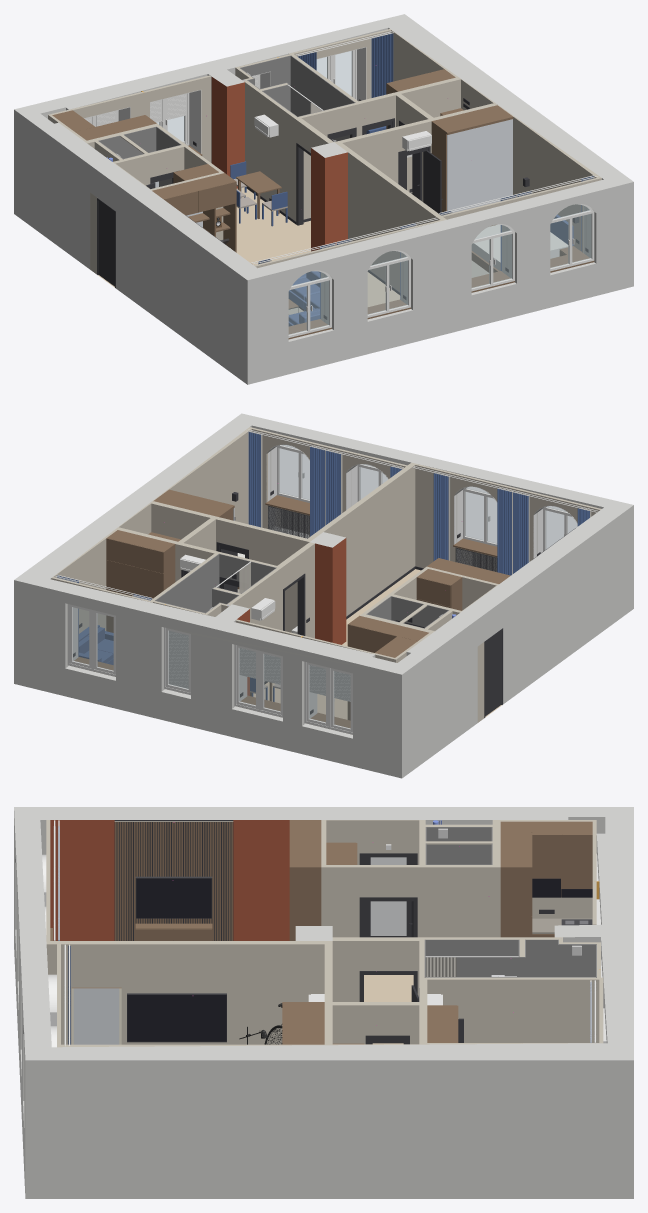
Rendered from apartment.glb.
The picture shows the model from 3 angles, top to bottom: view 1: azimuth 30°, elevation 25°; view 2: azimuth 150°, elevation 25°; view 3: azimuth 270°, elevation 25°; orthographic projection. The views are drawn at different scales.
Parts seen in each view (by area): view 1: IfcWall/Кирпичные стены, IfcFurniture/Шкаф-купе с зеркальными дверями (спальня), IfcWall/Перегородка ГКЛ.006, IfcWall/Перегородка ГКЛ.014, IfcSlab/Пол (верх стяжки), IfcCovering/Штукатурка восточной стены спальни (за кроватью,, IfcCovering/Плитка стен санузла 2, IfcFurniture/Бар сухой 2120×600 (гостиная, на месте шкафа у , IfcWall/Перегородка ГКЛ.009, IfcWall/Перегородка ГКЛ.010, IfcWindow/Окно спальни 2 (арочное), IfcWall/Перегородка ГКЛ.011 (+31 smaller); view 2: IfcWall/Кирпичные стены, IfcWall/Перегородка ГКЛ.006, IfcShadingDevice/Шторы гостиной: блэкаут и тюль на потолочны, IfcWall/Перегородка ГКЛ.011, IfcWall/Перегородка ГКЛ.017, IfcShadingDevice/Шторы спальни: блэкаут и тюль на потолочных, IfcFurniture/Шкаф распашной (комната 2), IfcCovering/Штукатурка восточной стены спальни (за кроватью,, IfcWall/Перегородка ГКЛ.014, IfcCovering/Плитка стен санузла 2, IfcWindow/Окно кухни 1, IfcWindow/Окно комнаты 2 (+34 smaller); view 3: IfcWall/Кирпичные стены, IfcWall/Перегородка ГКЛ.006, IfcCovering/Панель реек тёмного дерева на чёрном войлоке с п, IfcWall/Перегородка ГКЛ.015, IfcWall/Перегородка ГКЛ.002, IfcCovering/Плитка стен санузла 2, IfcElectricAppliance/Телевизор ≈85″ (спальня), IfcWall/Перегородка ГКЛ.014, IfcFurniture/Бар сухой 2120×600 (гостиная, на месте шкафа у , IfcWall/Перегородка ГКЛ.016, IfcElectricAppliance/Телевизор ≈65″ (гостиная, напротив дива, IfcFurniture/Зеркало с подсветкой (макияжная зона, спальня) (+23 smaller).
Part boxes in pixels (bbox=[...]): IfcWall/Кирпичные стены: bbox=[14, 14, 633, 384]; IfcFurniture/Шкаф-купе с зеркальными дверями (спальня): bbox=[431, 105, 513, 226]; IfcWall/Перегородка ГКЛ.006: bbox=[337, 143, 446, 291]; IfcWall/Перегородка ГКЛ.014: bbox=[242, 79, 333, 221]; IfcSlab/Пол (верх стяжки): bbox=[98, 187, 400, 306]; IfcCovering/Штукатурка восточной стены спальни (за кроватью,: bbox=[498, 105, 599, 250]; IfcCovering/Плитка стен санузла 2: bbox=[240, 55, 355, 141]; IfcFurniture/Бар сухой 2120×600 (гостиная, на месте шкафа у : bbox=[152, 173, 236, 252]; IfcWall/Перегородка ГКЛ.009: bbox=[51, 75, 211, 162]; IfcWall/Перегородка ГКЛ.010: bbox=[359, 77, 460, 193]; IfcWindow/Окно спальни 2 (арочное): bbox=[550, 204, 594, 271]; IfcWall/Перегородка ГКЛ.011: bbox=[334, 103, 497, 183]; IfcWall/Кирпичные стены: bbox=[14, 413, 633, 778]; IfcWall/Перегородка ГКЛ.006: bbox=[308, 462, 416, 616]; IfcShadingDevice/Шторы гостиной: блэкаут и тюль на потолочны: bbox=[412, 466, 598, 575]; IfcWall/Перегородка ГКЛ.011: bbox=[150, 501, 311, 632]; IfcWall/Перегородка ГКЛ.017: bbox=[415, 464, 601, 574]; IfcShadingDevice/Шторы спальни: блэкаут и тюль на потолочных: bbox=[248, 429, 403, 536]; IfcFurniture/Шкаф распашной (комната 2): bbox=[106, 530, 175, 632]; IfcCovering/Штукатурка восточной стены спальни (за кроватью,: bbox=[153, 428, 251, 524]; IfcWall/Перегородка ГКЛ.014: bbox=[225, 542, 314, 681]; IfcCovering/Плитка стен санузла 2: bbox=[155, 554, 276, 613]; IfcWindow/Окно кухни 1: bbox=[304, 661, 352, 734]; IfcWindow/Окно комнаты 2: bbox=[67, 604, 115, 676]; IfcWall/Кирпичные стены: bbox=[14, 807, 633, 1198]; IfcWall/Перегородка ГКЛ.006: bbox=[46, 941, 324, 1044]; IfcCovering/Панель реек тёмного дерева на чёрном войлоке с п: bbox=[114, 820, 233, 940]; IfcWall/Перегородка ГКЛ.015: bbox=[326, 865, 492, 937]; IfcWall/Перегородка ГКЛ.002: bbox=[419, 977, 603, 1042]; IfcCovering/Плитка стен санузла 2: bbox=[424, 939, 596, 977]; IfcElectricAppliance/Телевизор ≈85″ (спальня): bbox=[127, 993, 226, 1042]; IfcWall/Перегородка ГКЛ.014: bbox=[332, 937, 562, 1001]; IfcFurniture/Бар сухой 2120×600 (гостиная, на месте шкафа у : bbox=[289, 820, 321, 940]; IfcWall/Перегородка ГКЛ.016: bbox=[332, 1002, 419, 1044]; IfcElectricAppliance/Телевизор ≈65″ (гостиная, напротив дива: bbox=[135, 876, 212, 918]; IfcFurniture/Зеркало с подсветкой (макияжная зона, спальня): bbox=[71, 987, 121, 1044].
Bounding box in the file's own units: 11.35 × 2.93 × 11.75.
